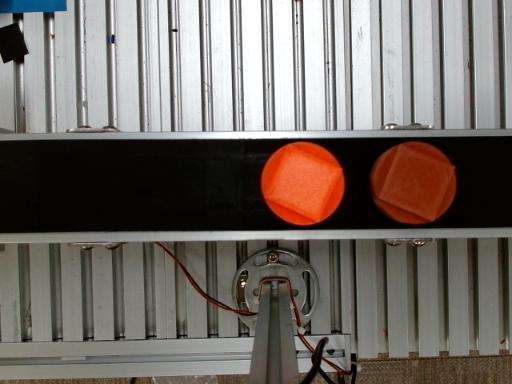Square: (264, 144, 344, 223), (378, 144, 456, 221)
